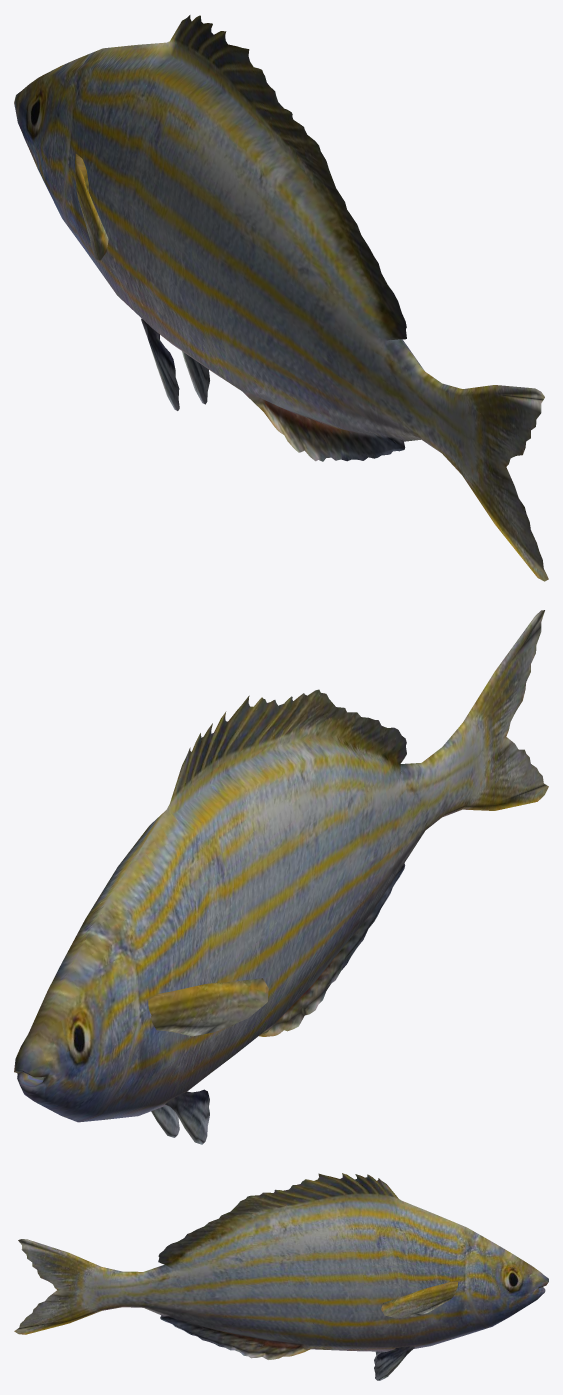
The model's file is SalpaV4.glb.
3 views of the same model, one above another, from view 1: azimuth 30°, elevation 25°; view 2: azimuth 150°, elevation 25°; view 3: azimuth 270°, elevation 25° (orthographic). The views are drawn at different scales.
Visible parts, largest first — view 1: Salpa, PinneInferiori.002, PinneLaterali.003; view 2: Salpa, PinneLaterali.003, PinneInferiori.002; view 3: Salpa, PinneLaterali.003, PinneInferiori.002.
Part boxes in pixels (<box>): Salpa: <box>14,15,548,581</box>; PinneInferiori.002: <box>141,318,209,410</box>; PinneLaterali.003: <box>75,154,108,260</box>; Salpa: <box>14,610,548,1122</box>; PinneLaterali.003: <box>148,978,268,1036</box>; PinneInferiori.002: <box>151,1089,209,1144</box>; Salpa: <box>14,1173,548,1359</box>; PinneLaterali.003: <box>381,1282,457,1318</box>; PinneInferiori.002: <box>374,1346,414,1380</box>.
Bounding box in the file's own units: 2.25 × 5.18 × 12.28.
Materials: 1 (1 with a texture image).
